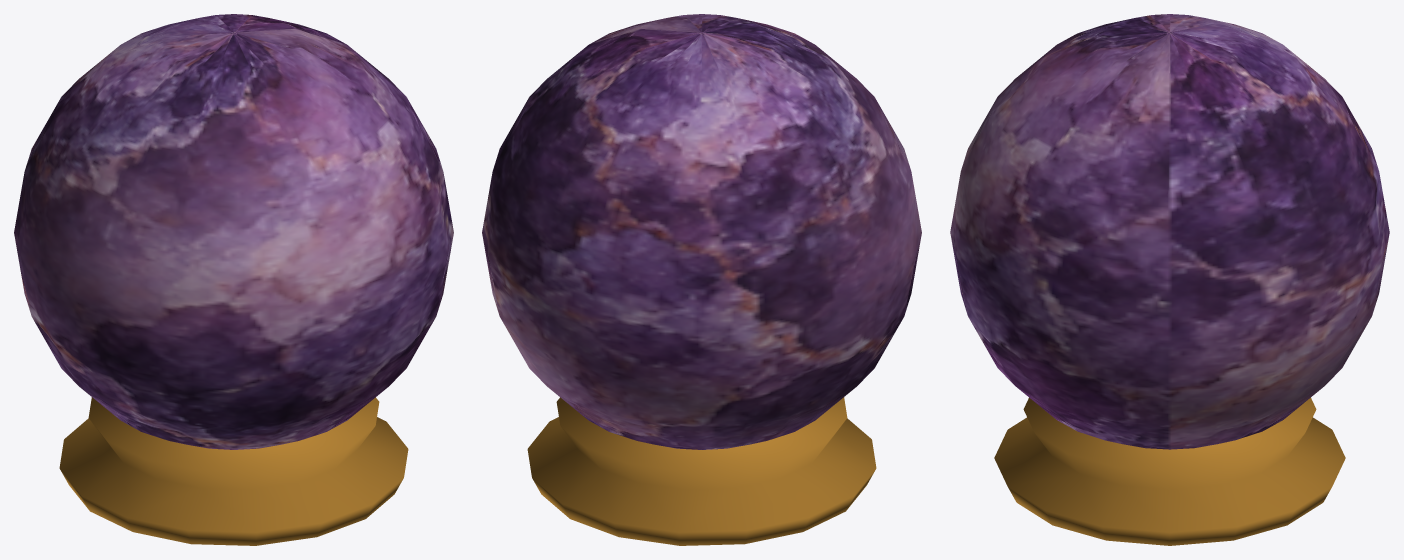
File: item_crysball.glb
3 views of the same model, side by side, from view 1: azimuth 30°, elevation 25°; view 2: azimuth 150°, elevation 25°; view 3: azimuth 270°, elevation 25° (orthographic).
Parts seen in each view (by area): view 1: props_crysball; view 2: props_crysball; view 3: props_crysball.
Boxes of the visible parts, x1=… form: props_crysball: x1=14, y1=14, x2=453, y2=545; props_crysball: x1=482, y1=14, x2=921, y2=545; props_crysball: x1=950, y1=14, x2=1389, y2=545.
Bounding box in the file's own units: 0.9 × 0.9999 × 0.9.
Materials: 2 (1 with a texture image).
